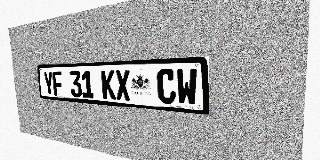1: (80, 70, 94, 98)
3: (69, 71, 82, 97)
C: (157, 69, 176, 104)
F: (52, 71, 64, 96)
K: (101, 70, 116, 100)
W: (176, 68, 197, 106)
X: (115, 70, 131, 101)
Y: (43, 71, 54, 95)
